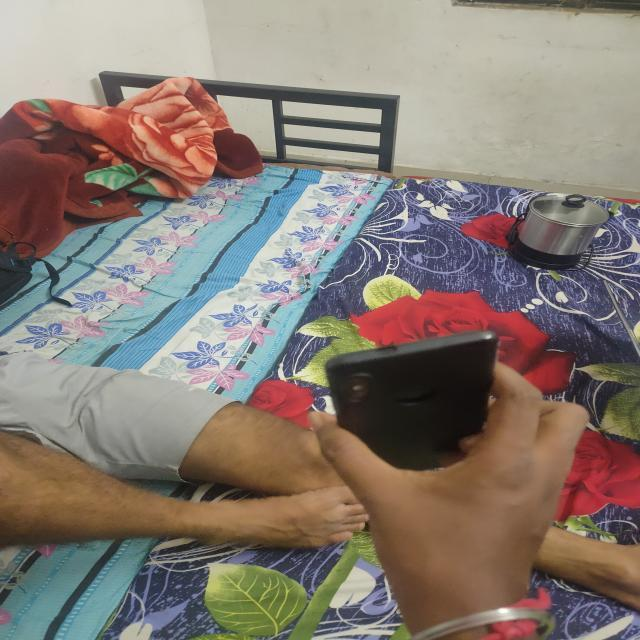Phone: (324, 326, 502, 467)
